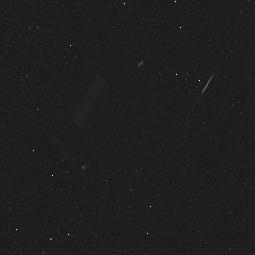cheops: (44, 50, 209, 136)
